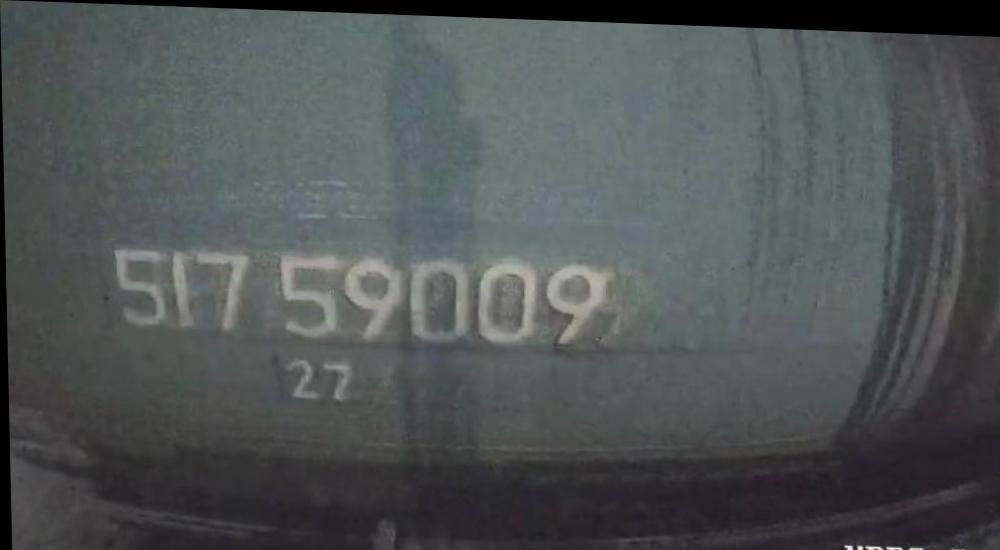Wagon-number: (109, 233, 607, 351)
